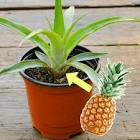Pineapple: (80, 58, 127, 137)
